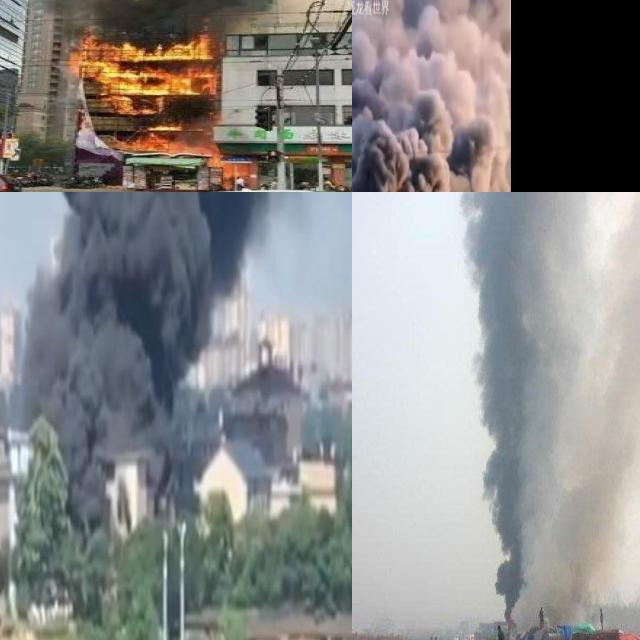fire: (63, 25, 227, 174)
smoke: (18, 192, 352, 443), (463, 192, 640, 623), (352, 0, 512, 192)
